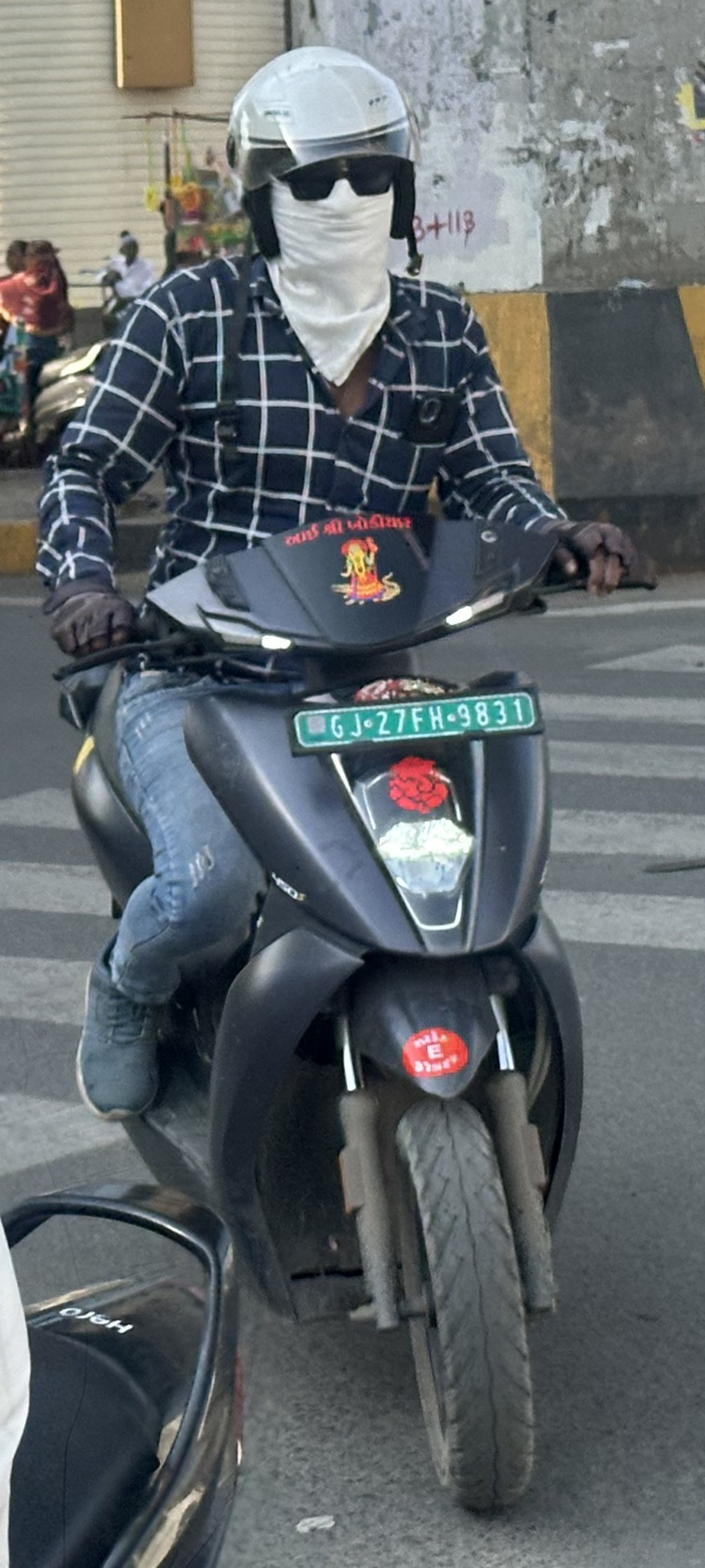BikeWithRider: (27, 35, 671, 1533)
Helmet: (210, 36, 438, 289)
